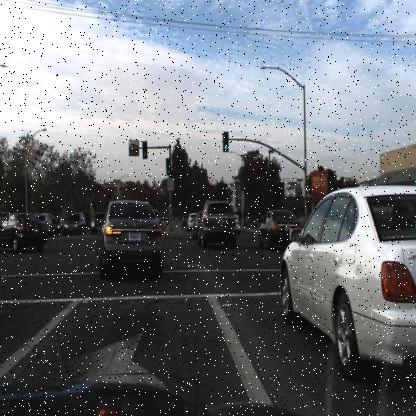car: (280, 181, 415, 370), (98, 198, 162, 278), (257, 203, 301, 256), (0, 212, 49, 253), (200, 194, 236, 249), (63, 210, 88, 234), (89, 210, 104, 237), (37, 213, 56, 233), (194, 207, 203, 239), (187, 212, 195, 234), (180, 207, 187, 231)
trafficLight-Green: (222, 132, 230, 154), (164, 159, 171, 177)
trafficLight-GreenLeft: (142, 142, 149, 160)
